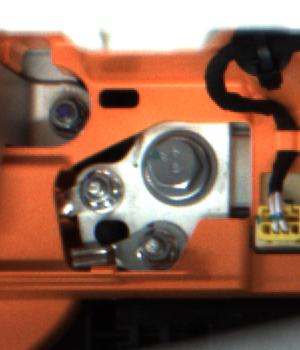nut_b: (135, 122, 221, 214)
